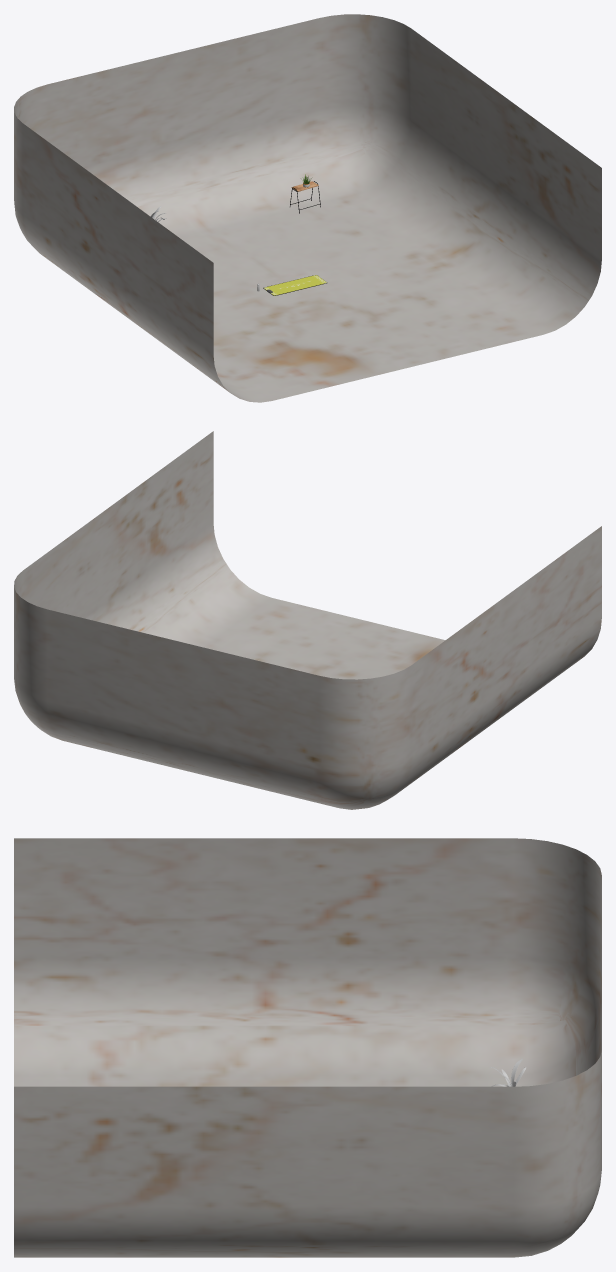
File: YipliFit_studio_setup.fbx
The picture shows the model from 3 angles, top to bottom: view 1: azimuth 30°, elevation 25°; view 2: azimuth 150°, elevation 25°; view 3: azimuth 270°, elevation 25°; orthographic projection. The views are drawn at different scales.
Visible parts, largest first — view 1: STUDIO, MAT1.001; view 2: STUDIO; view 3: STUDIO.
Part boxes in pixels (x1,y1,x2,y2): STUDIO: (14, 14, 601, 402); MAT1.001: (263, 275, 327, 295); STUDIO: (14, 431, 601, 809); STUDIO: (14, 838, 601, 1257).
Size of the model in its own units: 3998 by 1500 by 3998.
